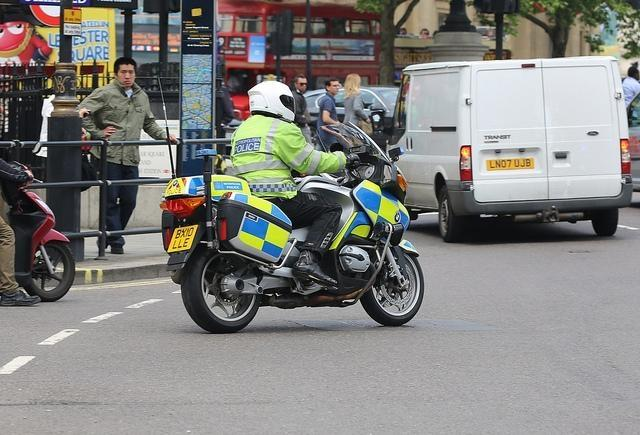bus: (216, 2, 382, 125)
car: (302, 86, 399, 140), (625, 90, 640, 195)
motorcycle: (158, 120, 426, 332), (0, 178, 76, 302)
truck: (392, 58, 636, 236)
